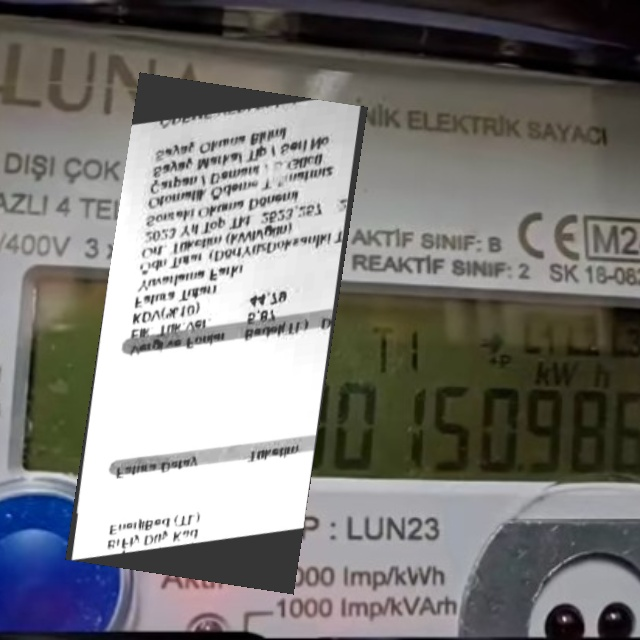electricity-bill: (64, 71, 368, 594)
